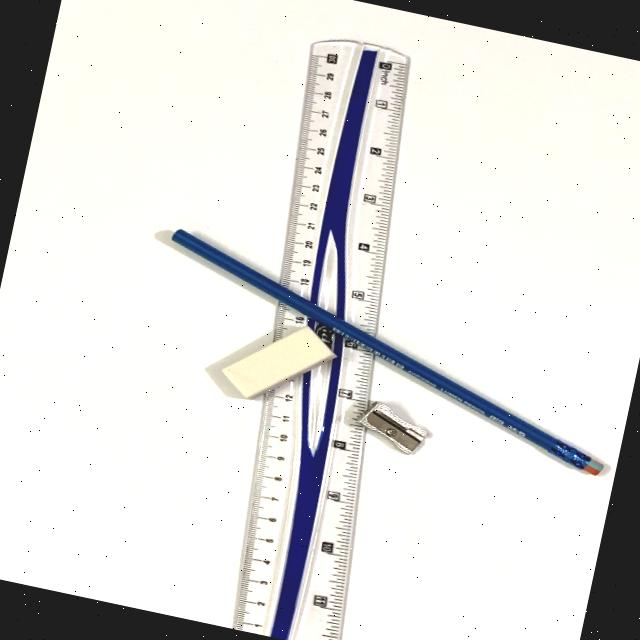Eraser: (190, 313, 352, 414)
Pencil: (145, 211, 618, 491)
Scale: (222, 28, 447, 640)
Sharpner: (352, 392, 444, 464)
